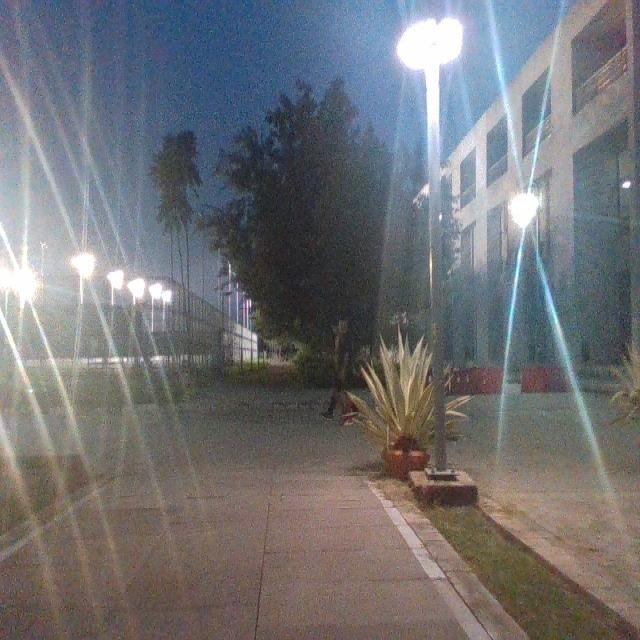lane: (0, 472, 471, 640)
